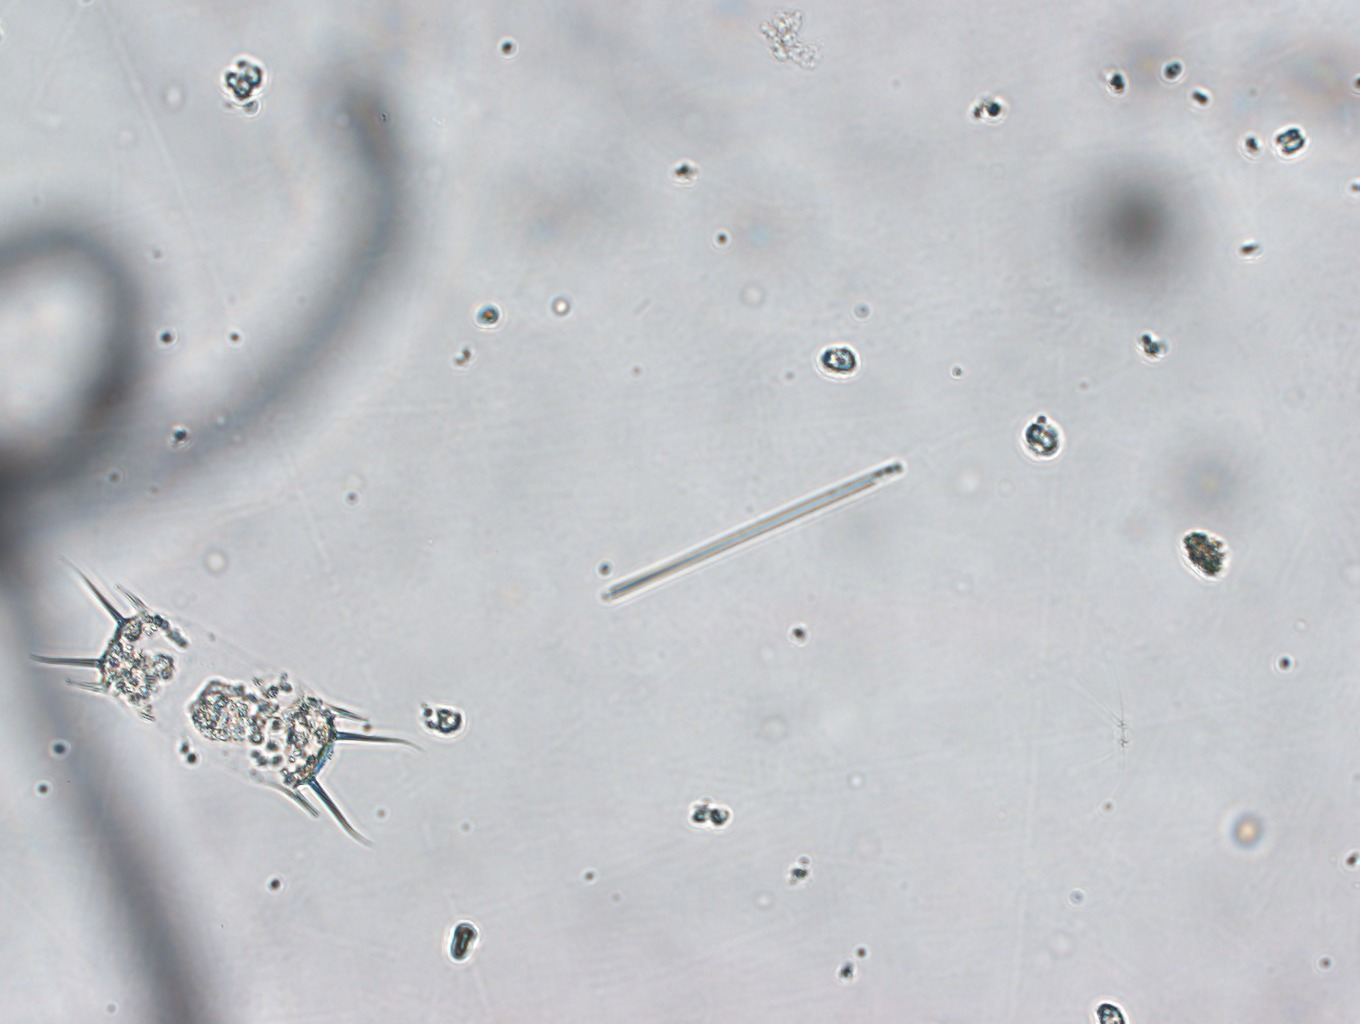biddulphia: (16, 556, 429, 851)
